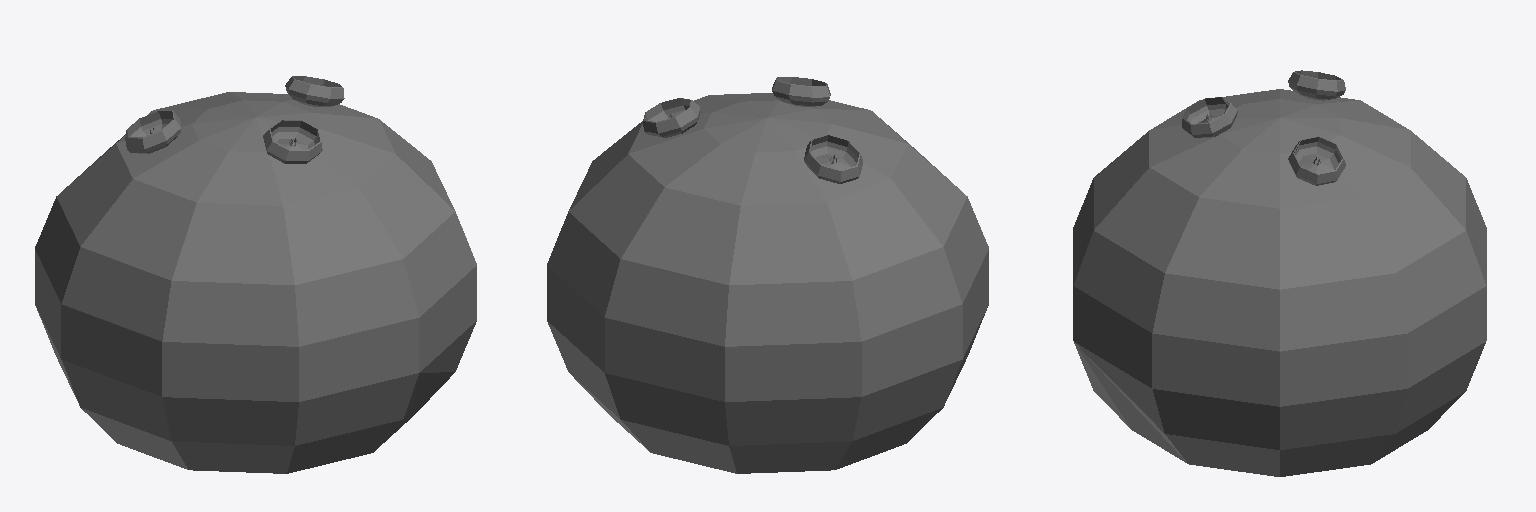
The model's file is ghostWestern_environment_barrelCactus.obj.
The picture shows the model from 3 angles: view 1: azimuth 30°, elevation 25°; view 2: azimuth 150°, elevation 25°; view 3: azimuth 270°, elevation 25°; orthographic projection.
Visible parts, largest first — view 1: barrelOBJ_polySurface5 polySurface6 barrelOBJ_polySurface1, flowerOBJ_polySurface5 polySurface9 flowerOBJ_polySurface7, flowerOBJ_polySurface5 polySurface9 flowerOBJ_polySurface6, flowerOBJ_polySurface5 polySurface9 flowerOBJ_polySurface1; view 2: barrelOBJ_polySurface5 polySurface6 barrelOBJ_polySurface1, flowerOBJ_polySurface5 polySurface9 flowerOBJ_polySurface6, flowerOBJ_polySurface5 polySurface9 flowerOBJ_polySurface1, flowerOBJ_polySurface5 polySurface9 flowerOBJ_polySurface7; view 3: barrelOBJ_polySurface5 polySurface6 barrelOBJ_polySurface1, flowerOBJ_polySurface5 polySurface9 flowerOBJ_polySurface1, flowerOBJ_polySurface5 polySurface9 flowerOBJ_polySurface7, flowerOBJ_polySurface5 polySurface9 flowerOBJ_polySurface6.
Boxes of the visible parts, x1=… form: barrelOBJ_polySurface5 polySurface6 barrelOBJ_polySurface1: x1=35, y1=92, x2=476, y2=473; flowerOBJ_polySurface5 polySurface9 flowerOBJ_polySurface7: x1=263, y1=120, x2=322, y2=163; flowerOBJ_polySurface5 polySurface9 flowerOBJ_polySurface6: x1=125, y1=111, x2=180, y2=153; flowerOBJ_polySurface5 polySurface9 flowerOBJ_polySurface1: x1=285, y1=76, x2=344, y2=106; barrelOBJ_polySurface5 polySurface6 barrelOBJ_polySurface1: x1=547, y1=93, x2=988, y2=473; flowerOBJ_polySurface5 polySurface9 flowerOBJ_polySurface6: x1=804, y1=135, x2=862, y2=183; flowerOBJ_polySurface5 polySurface9 flowerOBJ_polySurface1: x1=643, y1=98, x2=699, y2=137; flowerOBJ_polySurface5 polySurface9 flowerOBJ_polySurface7: x1=772, y1=77, x2=830, y2=106; barrelOBJ_polySurface5 polySurface6 barrelOBJ_polySurface1: x1=1073, y1=89, x2=1486, y2=476; flowerOBJ_polySurface5 polySurface9 flowerOBJ_polySurface1: x1=1288, y1=136, x2=1345, y2=185; flowerOBJ_polySurface5 polySurface9 flowerOBJ_polySurface7: x1=1182, y1=97, x2=1237, y2=138; flowerOBJ_polySurface5 polySurface9 flowerOBJ_polySurface6: x1=1288, y1=70, x2=1345, y2=100.
Size of the model in its own units: 4.6 by 3.47 by 4.23.